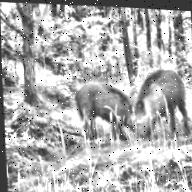boar: (127, 52, 192, 168), (65, 54, 135, 152)
